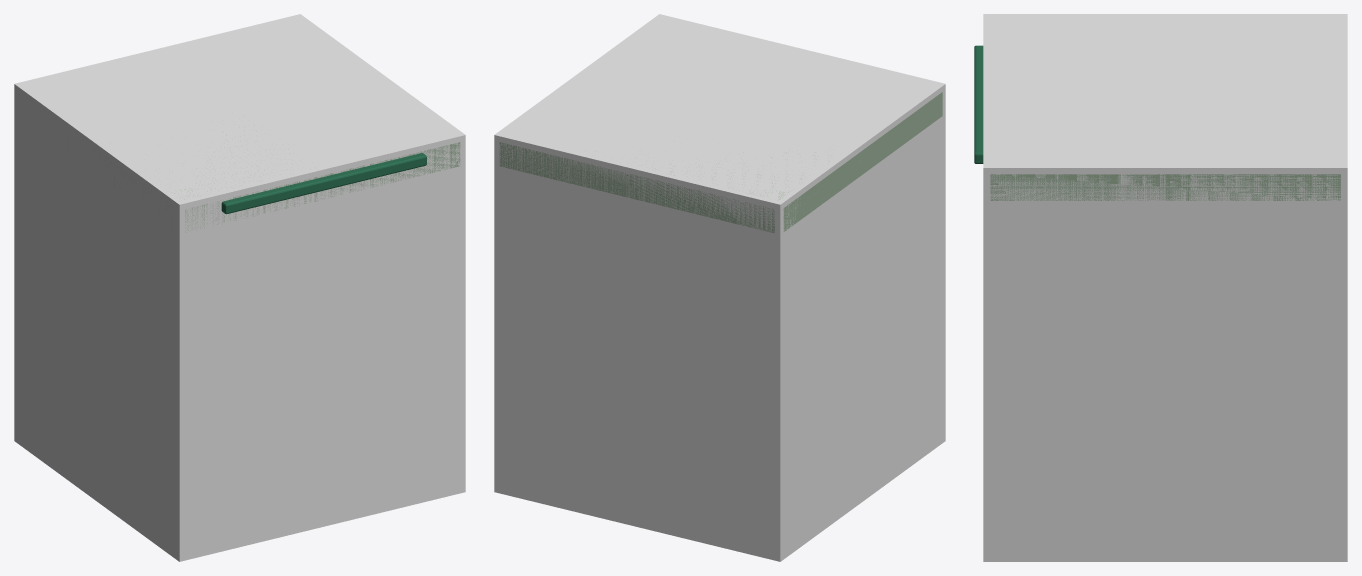
Rendered from side-table_retail.glb.
3 views of the same model, side by side, from view 1: azimuth 30°, elevation 25°; view 2: azimuth 150°, elevation 25°; view 3: azimuth 270°, elevation 25° (orthographic). The views are drawn at different scales.
Parts seen in each view (by area): view 1: COL_side-table, MESH_TierTrim_01, MESH_Top; view 2: COL_side-table, MESH_Top; view 3: COL_side-table, MESH_Top, MESH_TierTrim_01.
Boxes of the visible parts, x1,y1,x2,y2 form: COL_side-table: (14, 14, 465, 561); MESH_TierTrim_01: (221, 153, 426, 214); MESH_Top: (95, 125, 460, 231); COL_side-table: (494, 14, 945, 561); MESH_Top: (499, 92, 942, 232); COL_side-table: (983, 14, 1347, 561); MESH_Top: (990, 174, 1340, 200); MESH_TierTrim_01: (974, 45, 983, 163).
Size of the model in its own units: 0.52 by 0.62 by 0.533.
